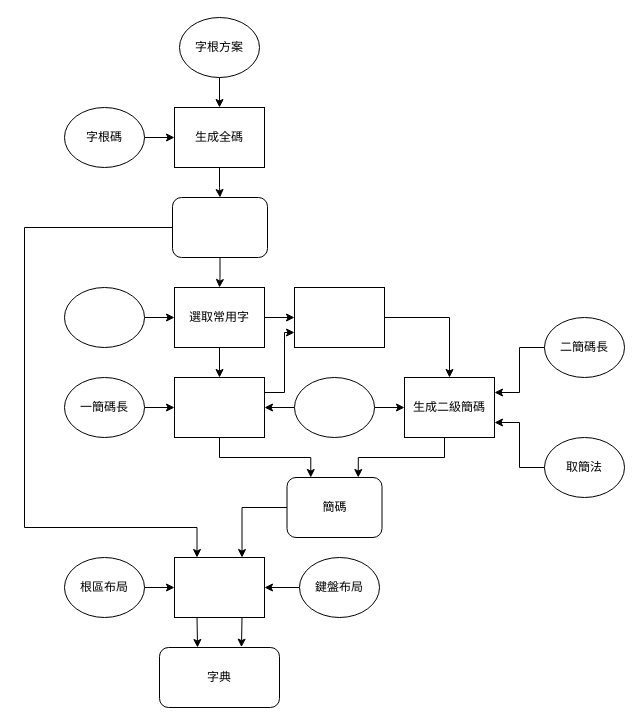
Image size: 642x725. Some labels were removed from this diagram. Each missing label, with the centre of its shape:
"全碼" belongs at (220,227).
"字頻" belongs at (334,407).
"常用字集" belongs at (104,317).
"排除一簡字" belongs at (339,317).
"生成一級簡碼" belongs at (219,407).
"轉換鍵名" belongs at (219,587).
